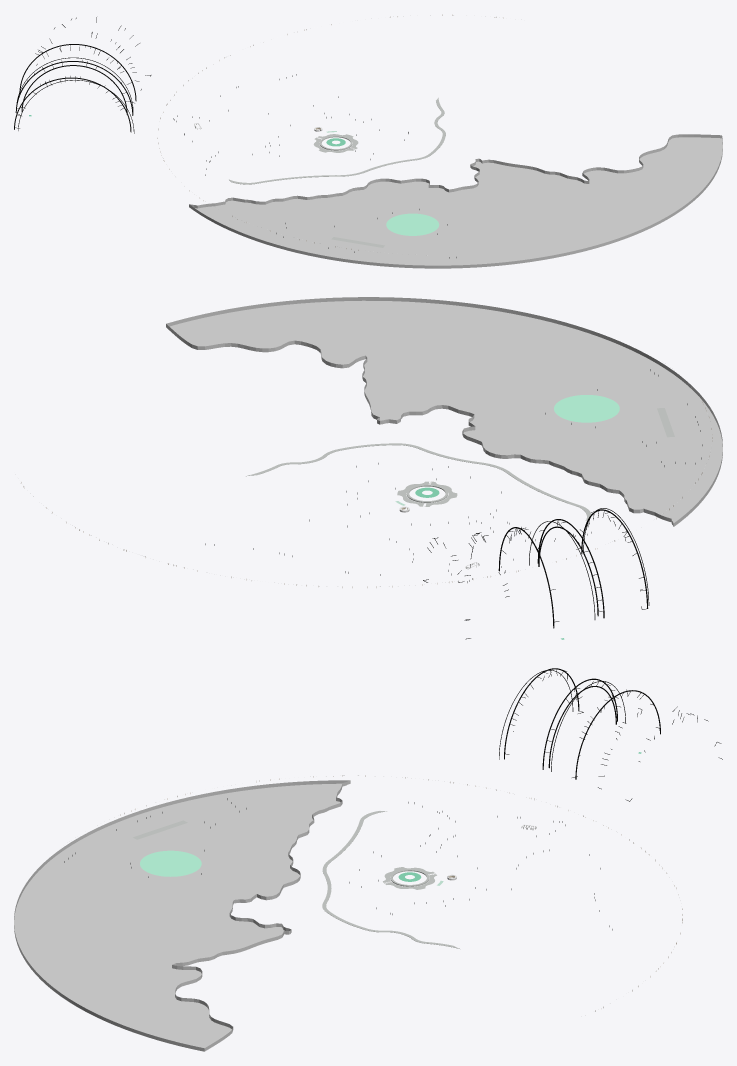
File: mahmoud-design-world-006.glb
The picture shows the model from 3 angles, top to bottom: view 1: azimuth 30°, elevation 25°; view 2: azimuth 150°, elevation 25°; view 3: azimuth 270°, elevation 25°; orthographic projection. The views are drawn at different scales.
Parts seen in each view (by area): view 1: DESIGN-OCCURRENCE-KAP-R2-4ABB21139EACB40D3D2D81AB, DESIGN-OCCURRENCE-KAP-R2-8DE5EC2B267E1800CF922CA9, DESIGN-OCCURRENCE-KAP-R2-844304F7BEC1DD08FB80C42A; view 2: DESIGN-OCCURRENCE-KAP-R2-4ABB21139EACB40D3D2D81AB, DESIGN-OCCURRENCE-KAP-R2-8DE5EC2B267E1800CF922CA9, DESIGN-OCCURRENCE-KAP-R2-844304F7BEC1DD08FB80C42A; view 3: DESIGN-OCCURRENCE-KAP-R2-4ABB21139EACB40D3D2D81AB, DESIGN-OCCURRENCE-KAP-R2-8DE5EC2B267E1800CF922CA9, DESIGN-OCCURRENCE-KAP-R2-844304F7BEC1DD08FB80C42A.
Part boxes in pixels (x1,y1,x2,y2): DESIGN-OCCURRENCE-KAP-R2-4ABB21139EACB40D3D2D81AB: [189, 134, 722, 268]; DESIGN-OCCURRENCE-KAP-R2-8DE5EC2B267E1800CF922CA9: [386, 213, 439, 235]; DESIGN-OCCURRENCE-KAP-R2-844304F7BEC1DD08FB80C42A: [229, 97, 445, 184]; DESIGN-OCCURRENCE-KAP-R2-4ABB21139EACB40D3D2D81AB: [166, 297, 722, 526]; DESIGN-OCCURRENCE-KAP-R2-8DE5EC2B267E1800CF922CA9: [554, 395, 619, 422]; DESIGN-OCCURRENCE-KAP-R2-844304F7BEC1DD08FB80C42A: [246, 443, 591, 520]; DESIGN-OCCURRENCE-KAP-R2-4ABB21139EACB40D3D2D81AB: [14, 780, 350, 1051]; DESIGN-OCCURRENCE-KAP-R2-8DE5EC2B267E1800CF922CA9: [140, 850, 201, 876]; DESIGN-OCCURRENCE-KAP-R2-844304F7BEC1DD08FB80C42A: [322, 811, 459, 948].
Size of the model in its own units: 383 by 52.31 by 367.
